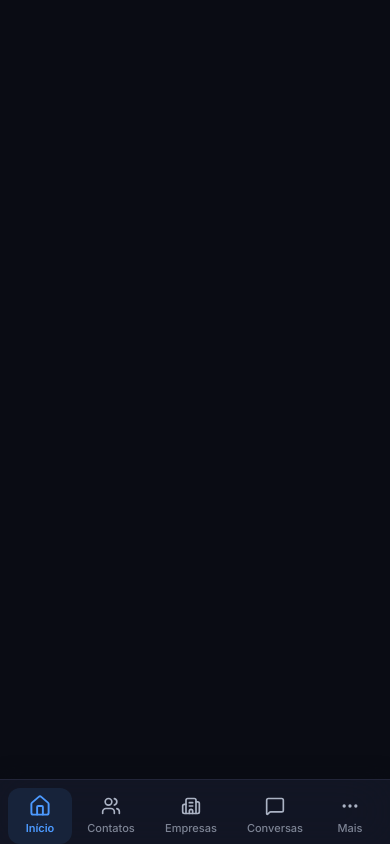
Test case: MobileBottomNav › anuncia rota gateada quando o usuario nao tem papel (fail-open)
Click the button "Mais" at (350,816), box [318,788,382,843]
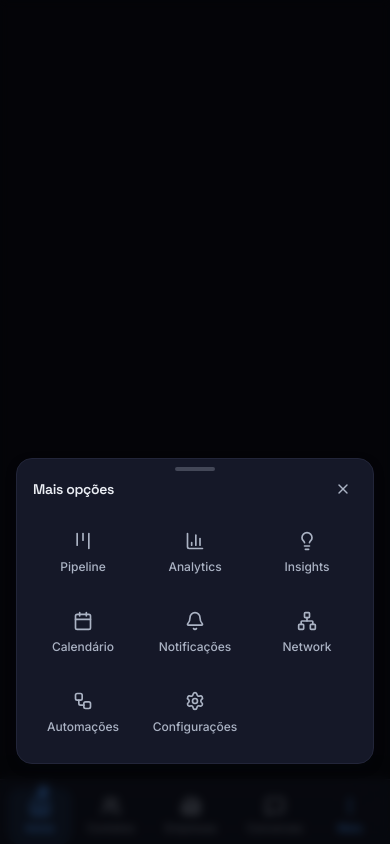
Expected: the text "Analytics" is shown, [168,559,222,575]
Expected: the text "Configurações" is shown, [153,719,237,735]
